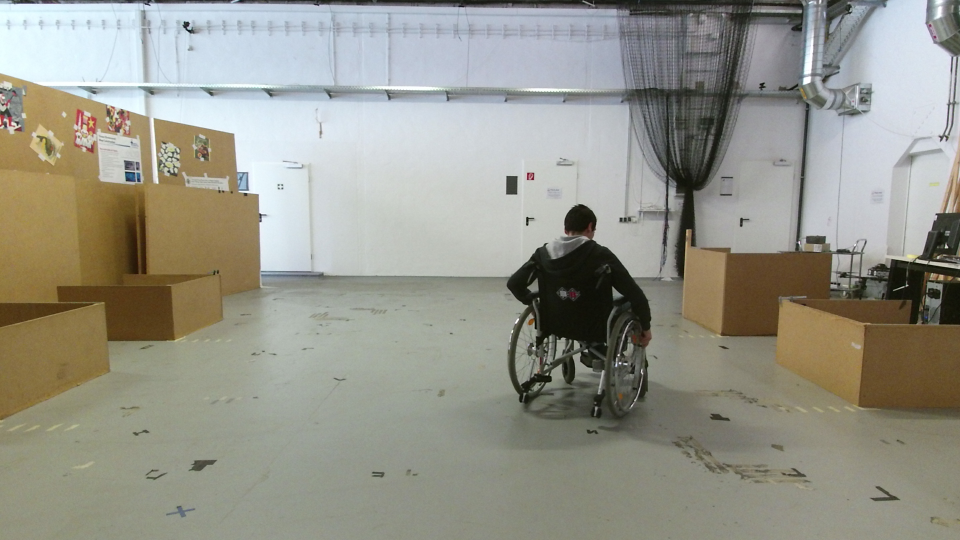wheelchair: (500, 197, 654, 427)
